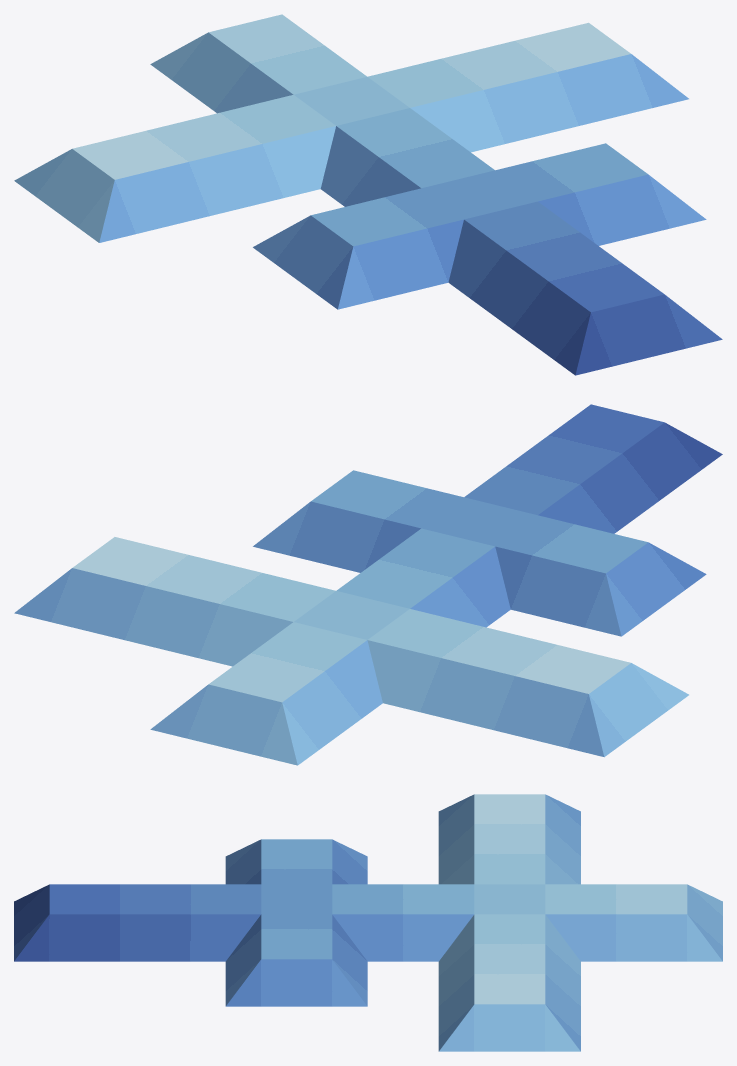
File: rune_style_a.obj
3 views of the same model, one above another, from view 1: azimuth 30°, elevation 25°; view 2: azimuth 150°, elevation 25°; view 3: azimuth 270°, elevation 25° (orthographic). The views are drawn at different scales.
Visible parts, largest first — view 1: RUNE_STYLE_A_Plane.018; view 2: RUNE_STYLE_A_Plane.018; view 3: RUNE_STYLE_A_Plane.018.
Part boxes in pixels (<box>): RUNE_STYLE_A_Plane.018: <box>14,14,722,375</box>; RUNE_STYLE_A_Plane.018: <box>14,404,722,765</box>; RUNE_STYLE_A_Plane.018: <box>14,794,722,1051</box>.
Size of the model in its own units: 0.5 by 0.0312 by 0.6237.
